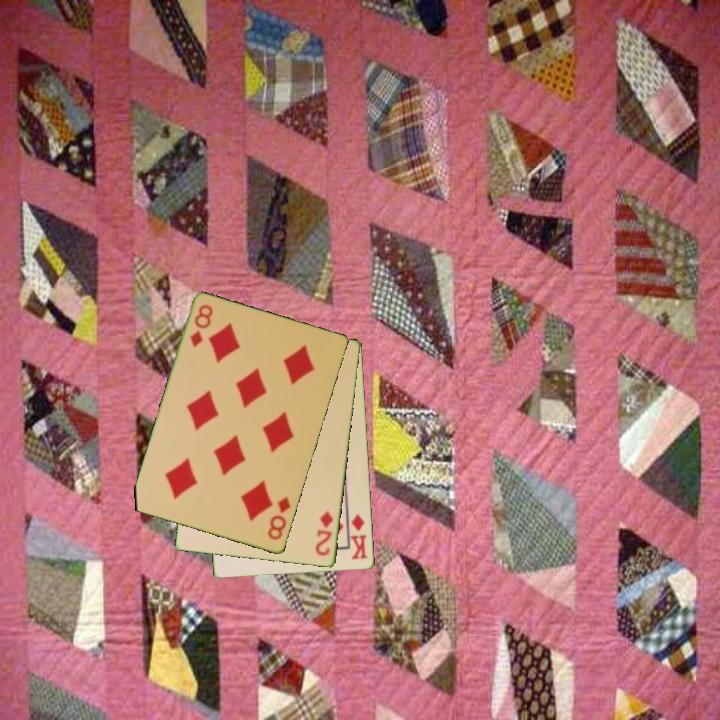2d: (312, 508, 336, 559)
8d: (264, 493, 294, 543), (186, 301, 216, 350)
Kd: (347, 511, 370, 563)
